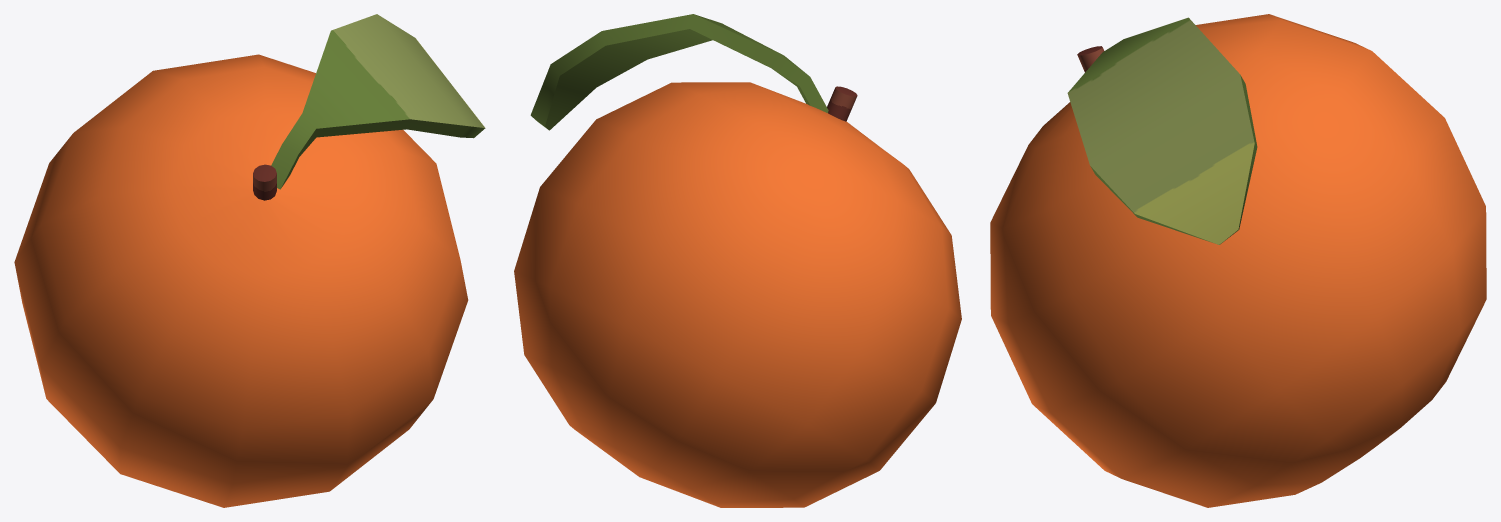
The model's file is orange.fbx.
3 renders of one model, left to right at view 1: azimuth 30°, elevation 25°; view 2: azimuth 150°, elevation 25°; view 3: azimuth 270°, elevation 25°, orthographic. The views are drawn at different scales.
Visible parts, largest first — view 1: orange; view 2: orange; view 3: orange.
Part boxes in pixels (box(x1,y1,x2,y2)): orange: box(14, 14, 485, 507); orange: box(514, 14, 961, 507); orange: box(990, 14, 1486, 507).
Bounding box in the file's own units: 3.04 × 3.24 × 2.89.
1 material, 1 textured.
